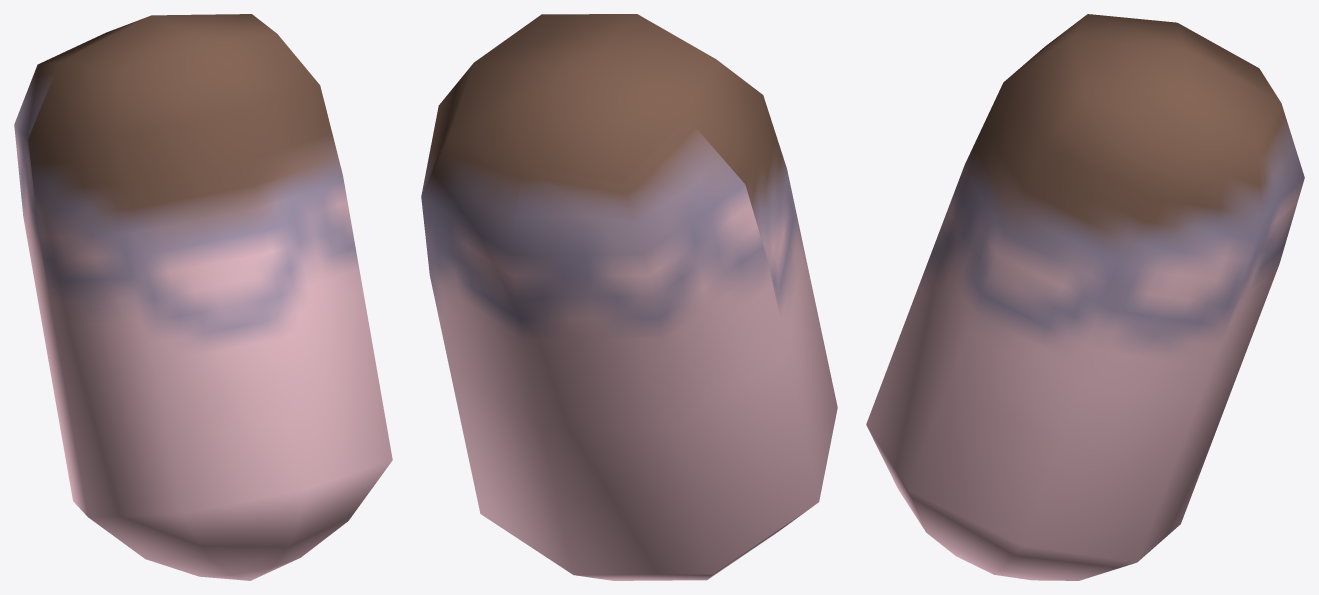
Rendered from UpperRightArm.fbx.
The picture shows the model from 3 angles, left to right: view 1: azimuth 30°, elevation 25°; view 2: azimuth 150°, elevation 25°; view 3: azimuth 270°, elevation 25°; orthographic projection. The views are drawn at different scales.
Parts seen in each view (by area): view 1: UpperRightArm; view 2: UpperRightArm; view 3: UpperRightArm.
Boxes of the visible parts, x1,y1,x2,y2 form: UpperRightArm: (14, 14, 392, 580); UpperRightArm: (421, 14, 837, 580); UpperRightArm: (866, 14, 1304, 580).
Bounding box in the file's own units: 102 × 171 × 129.
